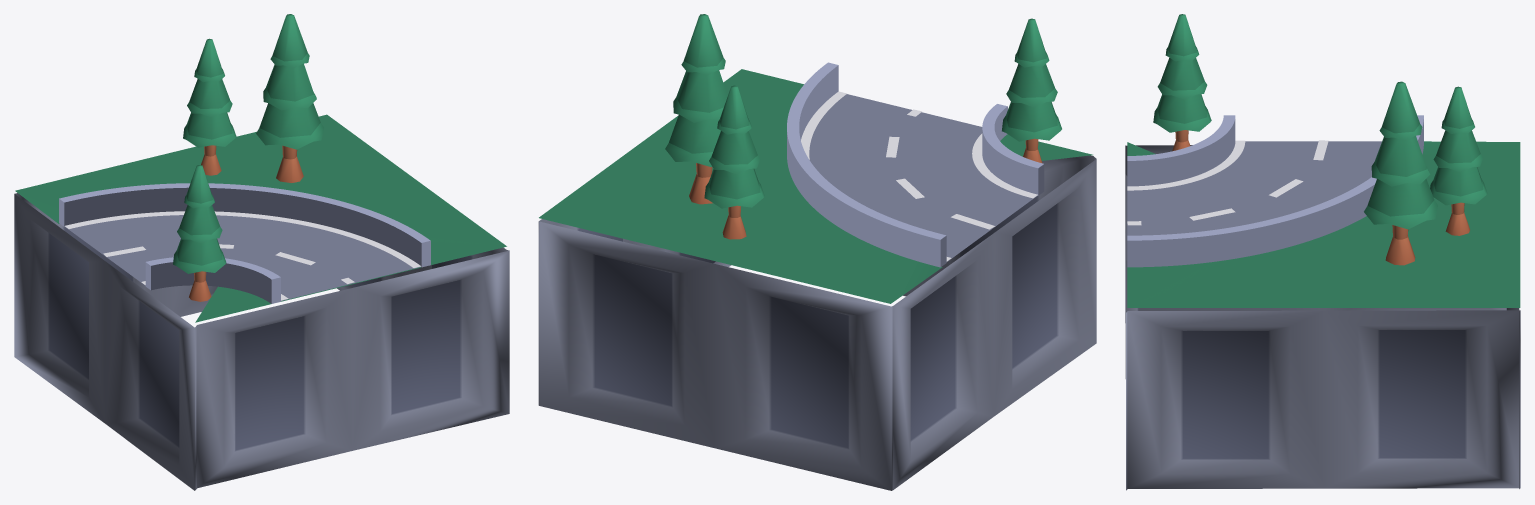
The model's file is elev-thin-corner.glb.
The picture shows the model from 3 angles, left to right: view 1: azimuth 30°, elevation 25°; view 2: azimuth 150°, elevation 25°; view 3: azimuth 270°, elevation 25°; orthographic projection. The views are drawn at different scales.
Parts seen in each view (by area): view 1: track-corner.005; view 2: track-corner.005; view 3: track-corner.005.
Part boxes in pixels (left/top/right/bottom): track-corner.005: left=14, top=14, right=509, bottom=490; track-corner.005: left=538, top=14, right=1096, bottom=490; track-corner.005: left=1125, top=14, right=1520, bottom=490.
Size of the model in its own units: 10.1 by 10.05 by 10.06.
Materials: 4 (4 with a texture image).
